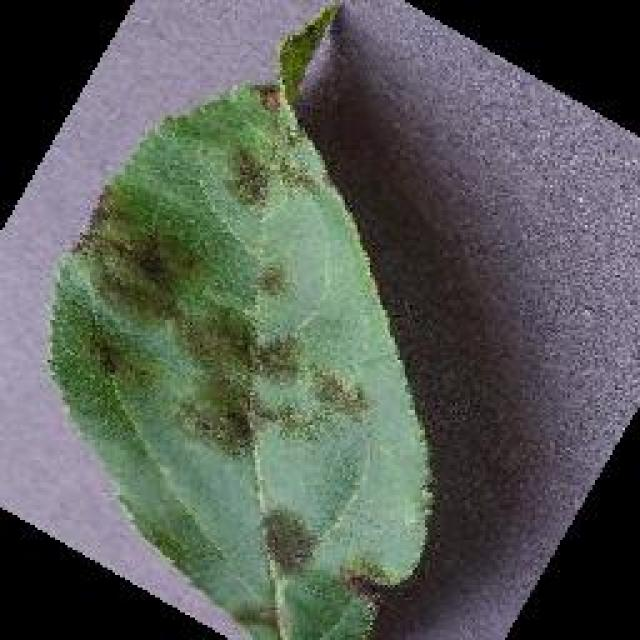apple scab disease: (42, 0, 440, 638)
